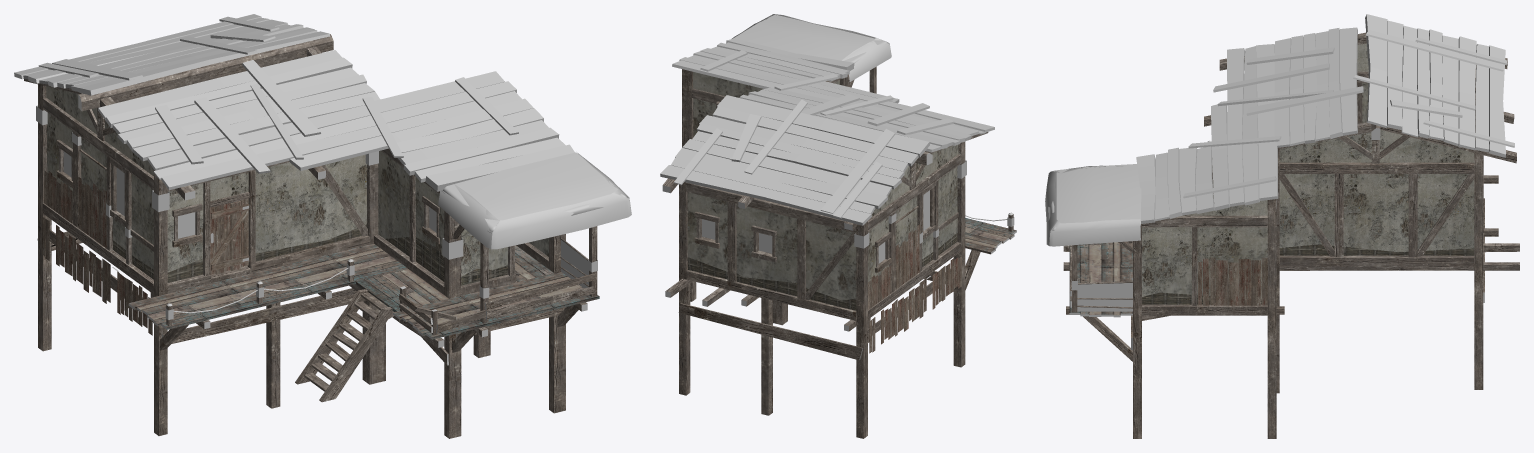
File: House1_LOD1.fbx
3 renders of one model, left to right at view 1: azimuth 30°, elevation 25°; view 2: azimuth 150°, elevation 25°; view 3: azimuth 270°, elevation 25°, orthographic. The views are drawn at different scales.
Visible parts, largest first — view 1: Base, Stairs, Doors; view 2: Base; view 3: Base.
Part boxes in pixels (box(x1,y1,x2,y2)): Base: box(14, 14, 631, 438); Stairs: box(295, 289, 393, 402); Doors: box(210, 198, 249, 274); Base: box(660, 14, 1016, 438); Base: box(1045, 14, 1519, 438).
Bounding box in the file's own units: 13.13 × 10.3 × 15.78.
